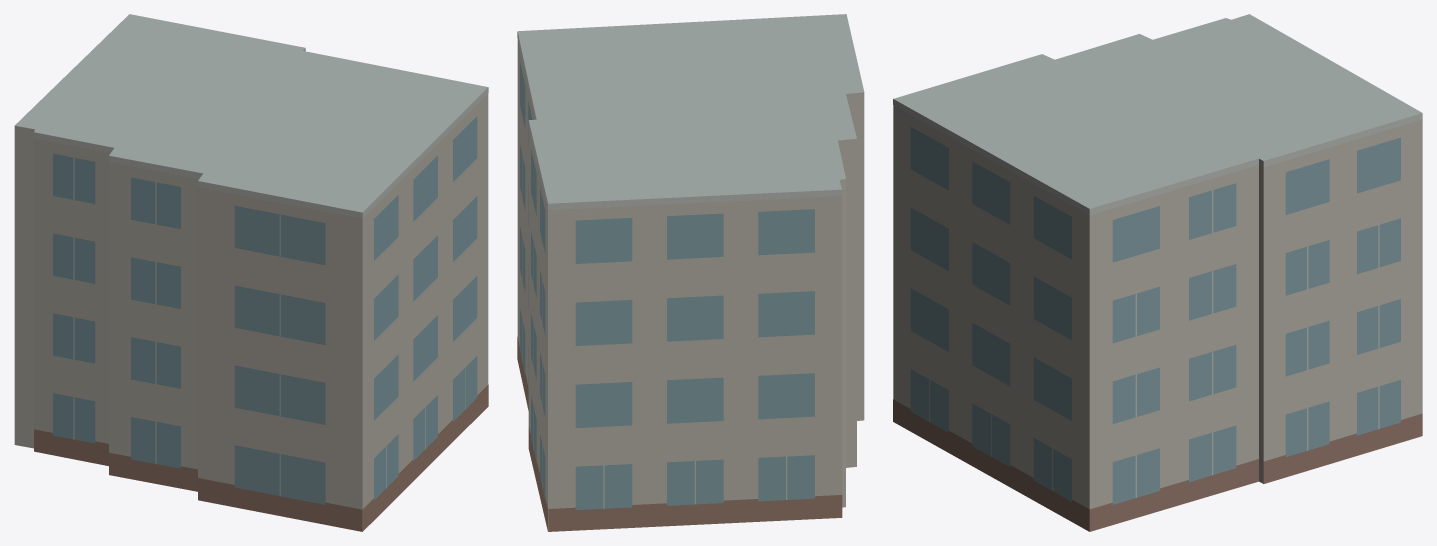
Rendered from survey-upis-32799803.glb.
3 views of the same model, side by side, from view 1: azimuth 30°, elevation 25°; view 2: azimuth 150°, elevation 25°; view 3: azimuth 270°, elevation 25° (orthographic). The views are drawn at different scales.
Visible parts, largest first — view 1: survey-upis-32799803.tmp; view 2: survey-upis-32799803.tmp; view 3: survey-upis-32799803.tmp.
Boxes of the visible parts, x1,y1,x2,y2 form: survey-upis-32799803.tmp: (14, 14, 488, 531); survey-upis-32799803.tmp: (517, 14, 864, 531); survey-upis-32799803.tmp: (893, 14, 1422, 531).
Bounding box in the file's own units: 16.19 × 12.5 × 18.58.
